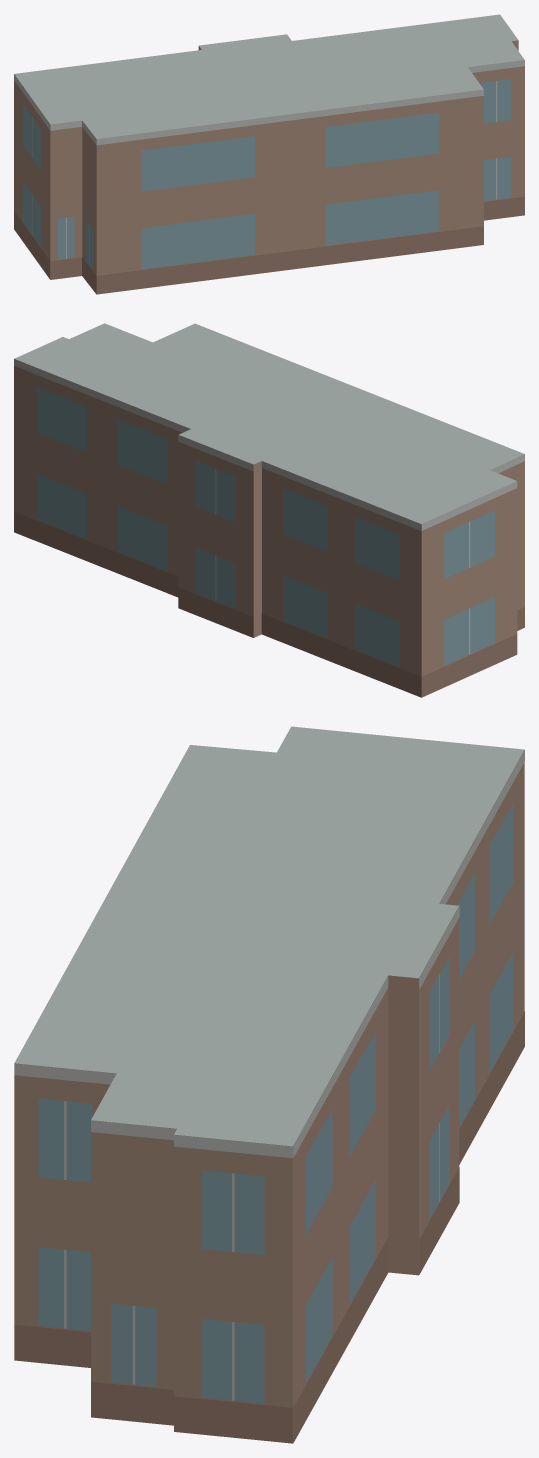
The model's file is survey-upis-32803415.glb.
The picture shows the model from 3 angles, top to bottom: view 1: azimuth 30°, elevation 25°; view 2: azimuth 150°, elevation 25°; view 3: azimuth 270°, elevation 25°; orthographic projection. The views are drawn at different scales.
Parts seen in each view (by area): view 1: survey-upis-32803415.tmp; view 2: survey-upis-32803415.tmp; view 3: survey-upis-32803415.tmp.
Boxes of the visible parts, box(x1,y1,x2,y2) form: survey-upis-32803415.tmp: box(14, 14, 524, 294); survey-upis-32803415.tmp: box(14, 323, 524, 697); survey-upis-32803415.tmp: box(14, 726, 524, 1443).
Size of the model in its own units: 18.51 by 6.1 by 9.51.
